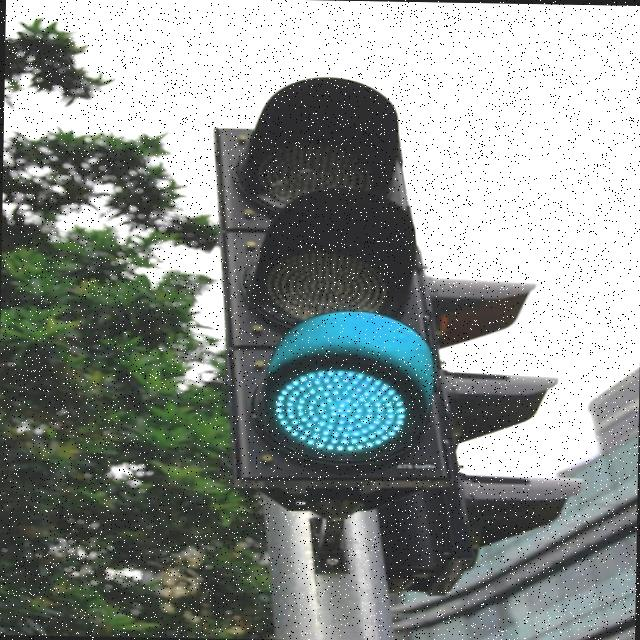Zielone swiatlo: (203, 74, 468, 478)
